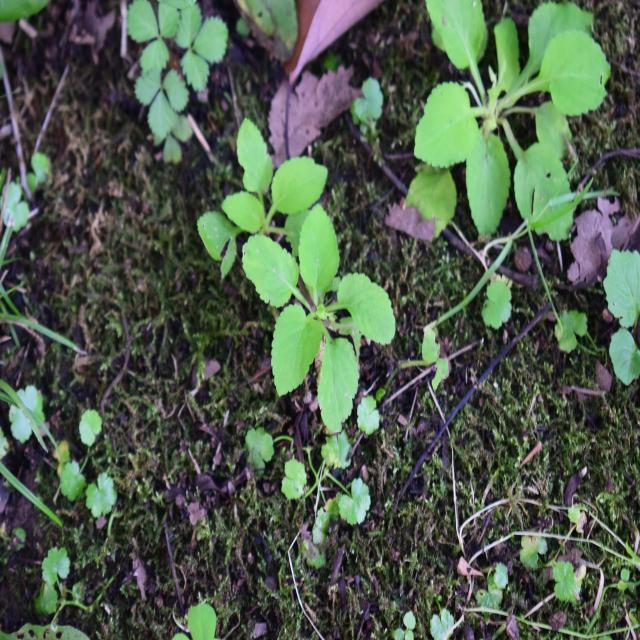Viola: (394, 0, 618, 236), (256, 228, 416, 432)
